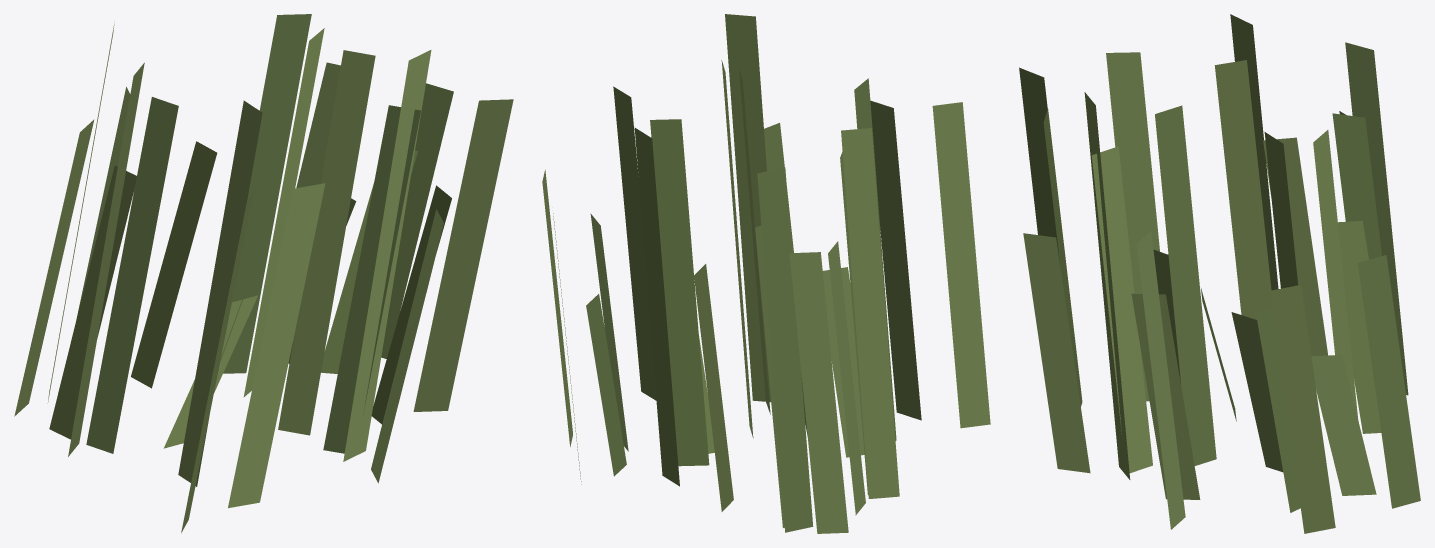
Rendered from grass.glb.
The picture shows the model from 3 angles, left to right: view 1: azimuth 30°, elevation 25°; view 2: azimuth 150°, elevation 25°; view 3: azimuth 270°, elevation 25°; orthographic projection. The views are drawn at different scales.
Bounding box in the file's own units: 0.6454 × 0.6387 × 0.5836.
